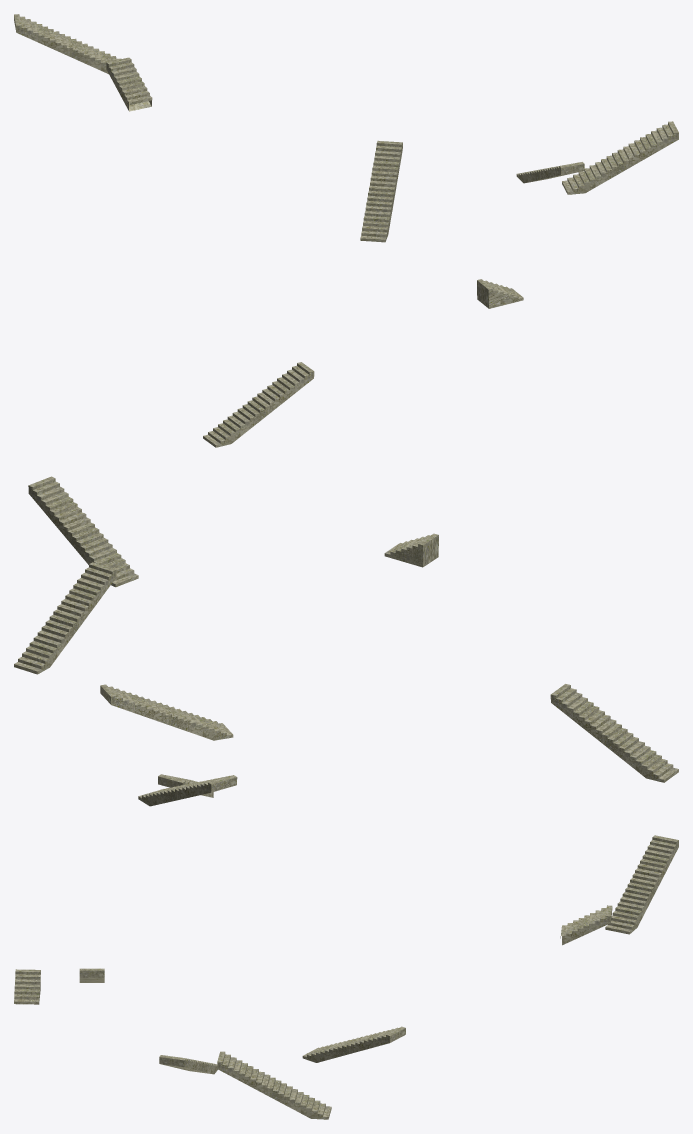
The model's file is SM_Chateaux_01_09.fbx.
3 renders of one model, top to bottom at view 1: azimuth 30°, elevation 25°; view 2: azimuth 150°, elevation 25°; view 3: azimuth 270°, elevation 25°, orthographic. The views are drawn at different scales.
Visible parts, largest first — view 1: SM_Chateaux_01_09; view 2: SM_Chateaux_01_09; view 3: SM_Chateaux_01_09.
Part boxes in pixels (bbox=[...]): SM_Chateaux_01_09: bbox=[14, 14, 678, 447]; SM_Chateaux_01_09: bbox=[14, 476, 678, 806]; SM_Chateaux_01_09: bbox=[14, 835, 678, 1119].
Size of the model in its own units: 5081 by 1774 by 5805.
